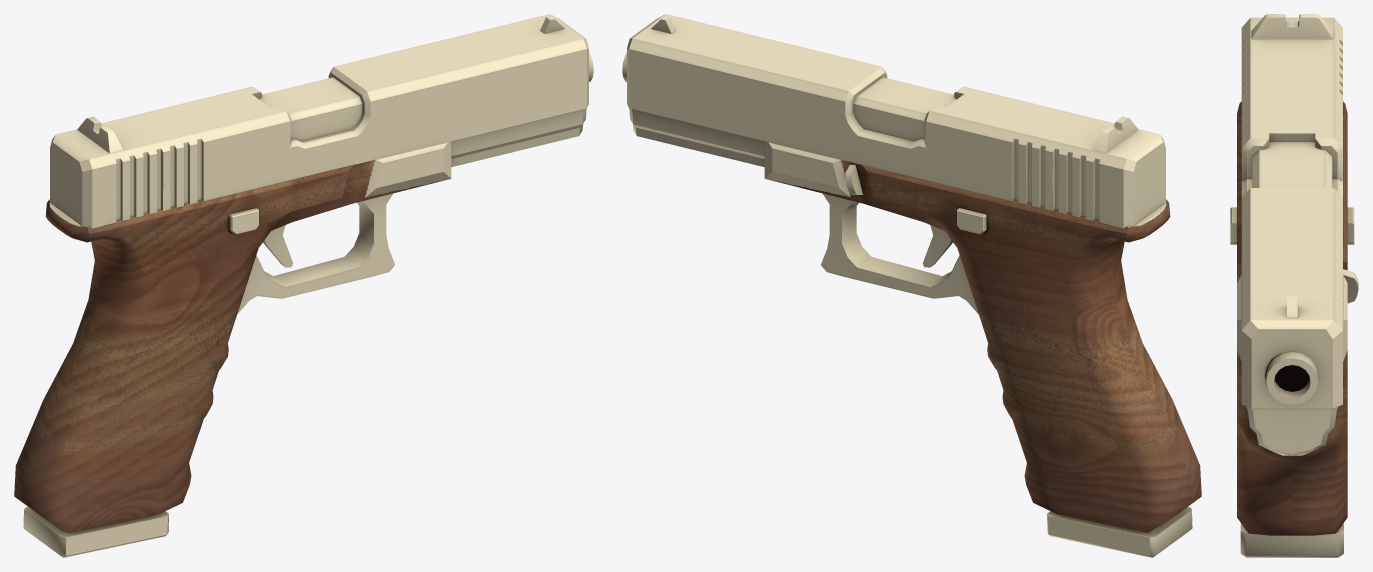
Rendered from weapon_17_5.gltf.
3 views of the same model, side by side, from view 1: azimuth 30°, elevation 25°; view 2: azimuth 150°, elevation 25°; view 3: azimuth 270°, elevation 25° (orthographic). The views are drawn at different scales.
Visible parts, largest first — view 1: Glock_17_Frame; view 2: Glock_17_Frame; view 3: Glock_17_Frame.
Part boxes in pixels (x1,y1,x2,y2): Glock_17_Frame: (14, 14, 593, 557); Glock_17_Frame: (622, 14, 1201, 557); Glock_17_Frame: (1230, 14, 1358, 557).
Size of the model in its own units: 9302 by 6511 by 1470.
Materials: 1 (1 with a texture image).
